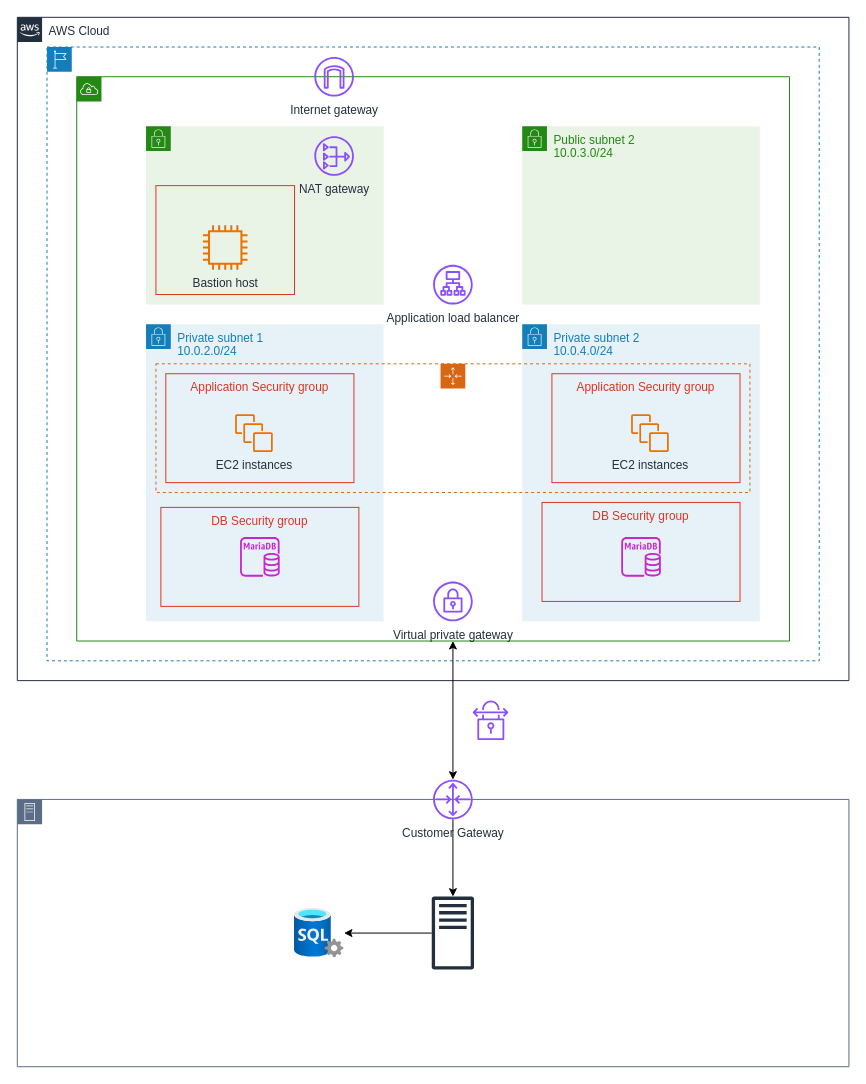
Some shapes in this 866 by 1084 pixel diagram are drawn without their labels. The box of each missing label's shape, as (x1, y1, x2, y2) in pixels:
Auto Scaling group App tier: (155, 363, 750, 493)
Bastion Host Security group: (155, 185, 295, 295)
On-premises network: (16, 798, 849, 1067)
Public subnet 1 10.0.1.0/24: (145, 125, 384, 304)
Region: (46, 46, 819, 661)
VPC 10.0.0.0/16: (76, 76, 790, 641)
VPN Tunnel: (472, 700, 508, 740)
